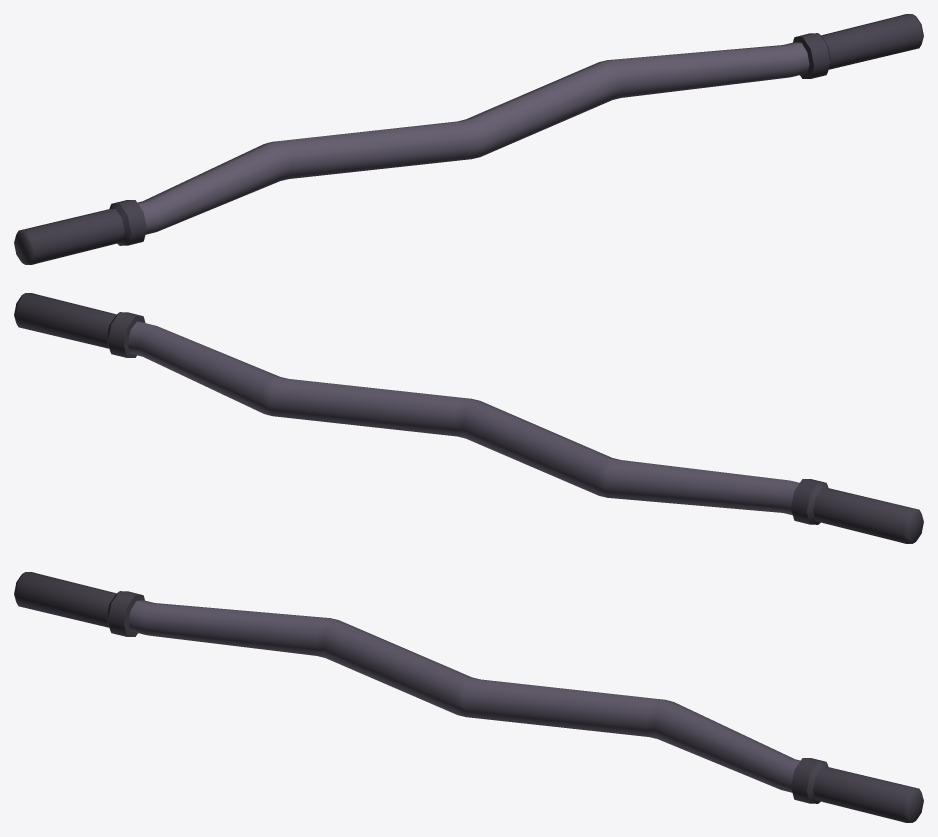
File: scene_cGhovTgiEb.glb
3 renders of one model, top to bottom at view 1: azimuth 30°, elevation 25°; view 2: azimuth 150°, elevation 25°; view 3: azimuth 330°, elevation 25°, orthographic.
Parts seen in each view (by area): view 1: Barbell_v06; view 2: Barbell_v06; view 3: Barbell_v06.
Boxes of the visible parts, x1,y1,x2,y2 form: Barbell_v06: [14, 14, 923, 264]; Barbell_v06: [14, 293, 923, 543]; Barbell_v06: [14, 572, 923, 822].
Size of the model in its own units: 2.28 by 0.1029 by 0.2111.
1 material, 1 textured.
